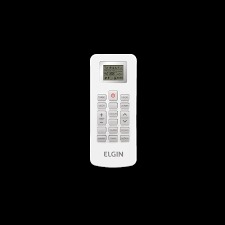remote control: (93, 58, 136, 164)
